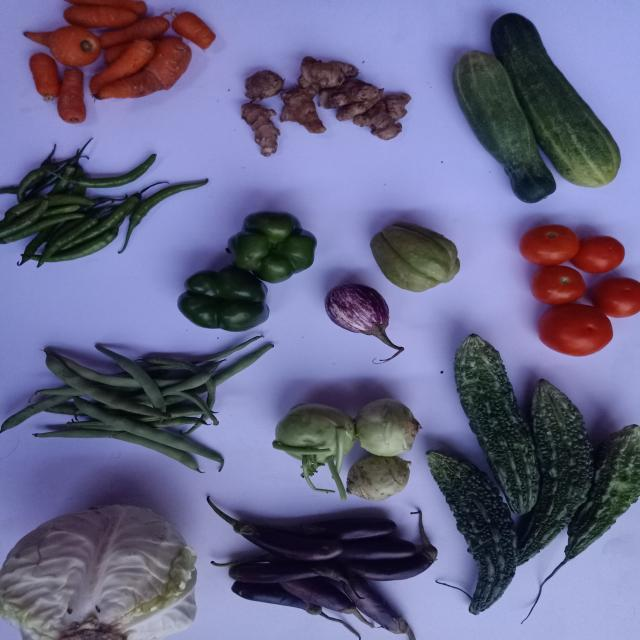Beans: (73, 399, 223, 465), (43, 350, 169, 419), (33, 429, 198, 471), (94, 345, 164, 412), (55, 355, 140, 388), (0, 396, 72, 433), (162, 372, 210, 396)
Bitter Gourd: (532, 425, 640, 612), (455, 334, 540, 515), (426, 451, 518, 616), (519, 380, 594, 565)
Brinjal: (207, 499, 343, 562), (331, 576, 415, 640), (231, 582, 346, 627), (279, 577, 365, 622), (228, 562, 346, 584)
Cabbage: (0, 506, 196, 640)
Capsicum: (219, 207, 321, 285), (175, 264, 272, 335)
Carrot: (88, 38, 154, 94), (63, 4, 137, 27), (171, 11, 215, 48), (56, 68, 85, 123), (28, 52, 59, 101)
Chayote: (370, 220, 464, 295)
Cucumber: (492, 12, 621, 187), (446, 49, 561, 207)
Eggplant: (324, 284, 404, 364)
Ginger: (353, 93, 411, 139), (279, 84, 326, 133), (241, 102, 280, 156), (244, 69, 284, 101)
Green Chilly: (117, 178, 208, 254), (67, 153, 155, 188), (36, 217, 97, 267), (45, 228, 117, 262), (0, 196, 47, 237)
Tomato: (539, 304, 614, 356), (521, 224, 580, 265), (531, 265, 586, 305), (571, 236, 626, 273), (594, 277, 640, 318)
Turnip: (272, 404, 355, 502), (354, 399, 421, 457), (346, 456, 411, 502)
